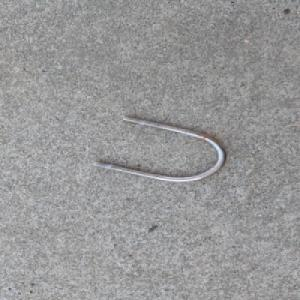ClampPart: (91, 115, 228, 182)
